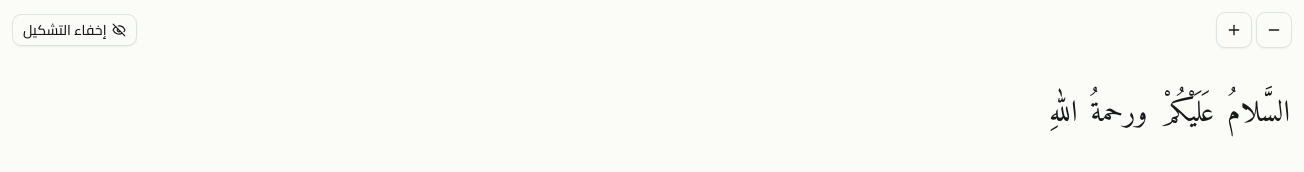
Test: ReaderText › toggle harakat menyembunyikan tasykil
Click the button "إخفاء التشكيل".
click(75, 30)  # box [12,14,138,46]
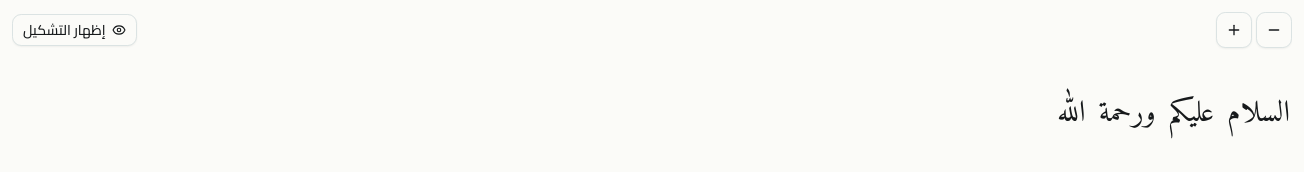
Expected: the button "السلام" is shown, [1225,87,1292,140]
